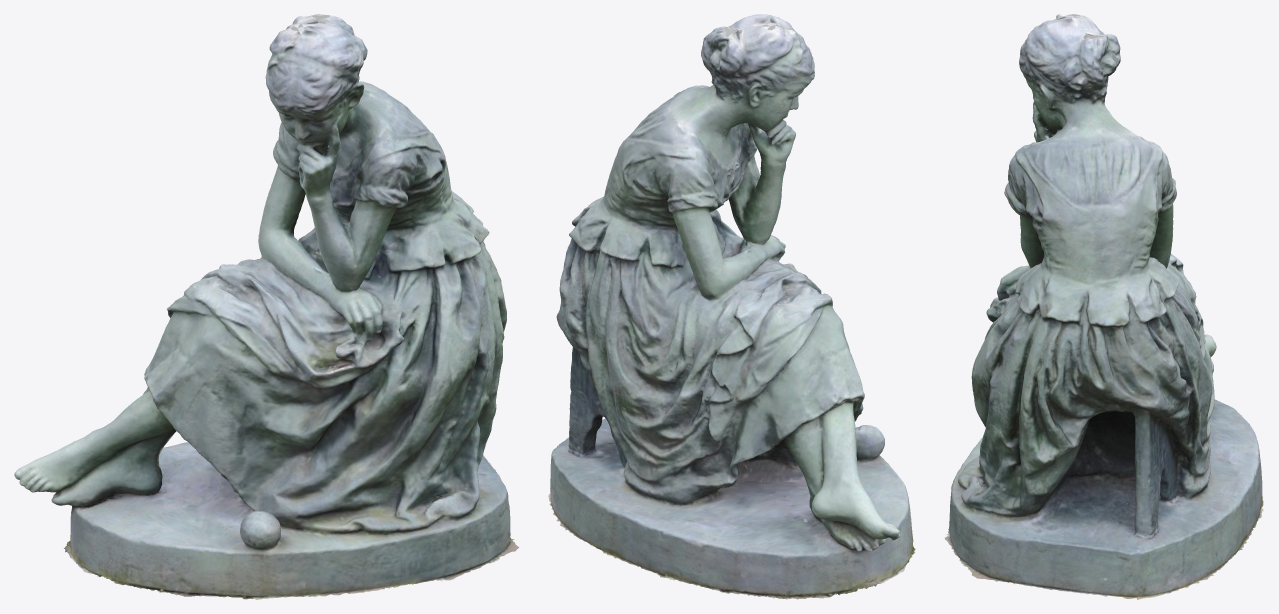
The model's file is 人物其它_沉思少女铜像_opt.glb.
3 views of the same model, side by side, from view 1: azimuth 30°, elevation 25°; view 2: azimuth 150°, elevation 25°; view 3: azimuth 270°, elevation 25° (orthographic). The views are drawn at different scales.
Parts seen in each view (by area): view 1: statueGirlPuteaux3objcleaner; view 2: statueGirlPuteaux3objcleaner; view 3: statueGirlPuteaux3objcleaner.
Part boxes in pixels (bbox=[...]): statueGirlPuteaux3objcleaner: bbox=[14, 14, 519, 599]; statueGirlPuteaux3objcleaner: bbox=[548, 14, 915, 599]; statueGirlPuteaux3objcleaner: bbox=[944, 14, 1263, 599].
Size of the model in its own units: 0.2461 by 0.3 by 0.176.
Materials: 2 (1 with a texture image).
